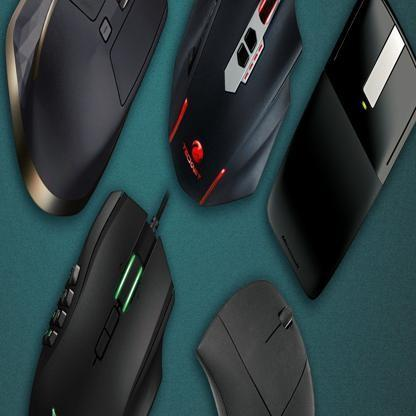not trash: (264, 0, 416, 298), (2, 0, 172, 216), (25, 188, 176, 416), (166, 0, 309, 210), (190, 281, 317, 416)
